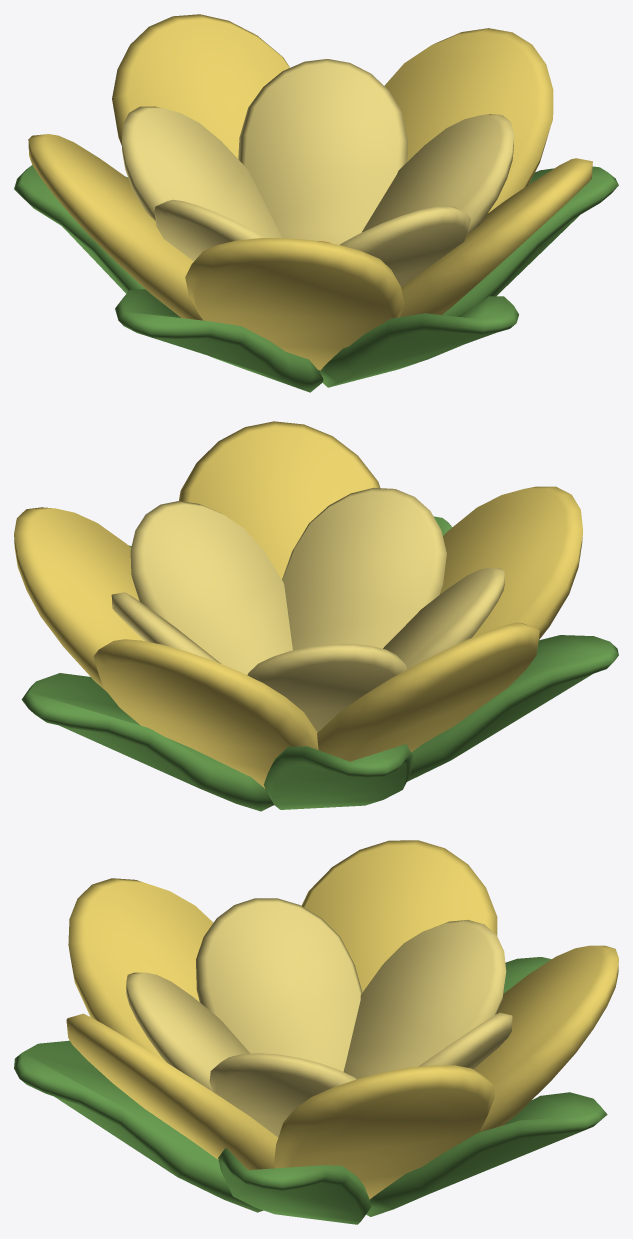
Rendered from flor_amarela.fbx.
3 renders of one model, top to bottom at view 1: azimuth 30°, elevation 25°; view 2: azimuth 150°, elevation 25°; view 3: azimuth 270°, elevation 25°, orthographic.
Visible parts, largest first — view 1: Cylinder; view 2: Cylinder; view 3: Cylinder.
Boxes of the visible parts, x1,y1,x2,y2 form: Cylinder: (14, 14, 618, 392); Cylinder: (14, 421, 618, 811); Cylinder: (14, 840, 618, 1224).
Size of the model in its own units: 79.4 by 33.93 by 79.79.
